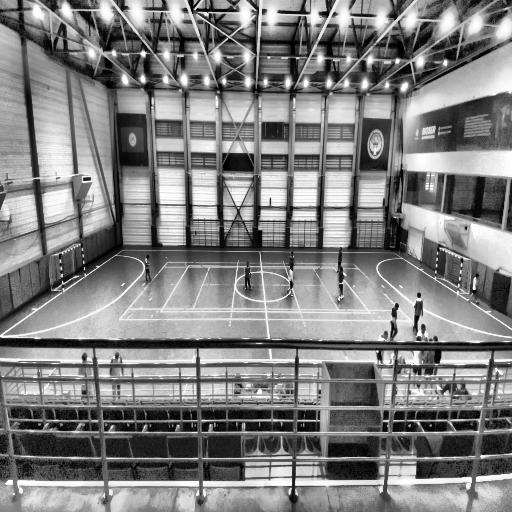player: (108, 351, 125, 403), (412, 290, 424, 336), (468, 271, 481, 308), (388, 302, 400, 340), (336, 266, 347, 304), (287, 263, 295, 298), (144, 253, 153, 284), (244, 260, 252, 293), (337, 246, 343, 274), (288, 252, 296, 272)
